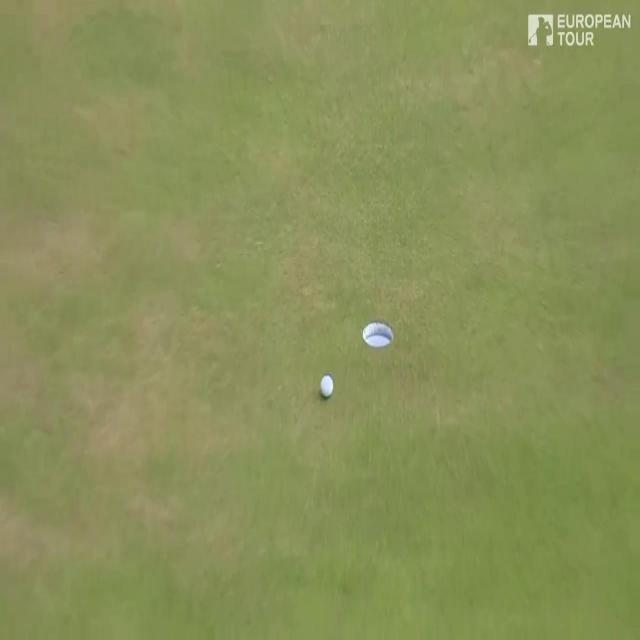GolfBall: (313, 369, 339, 404)
